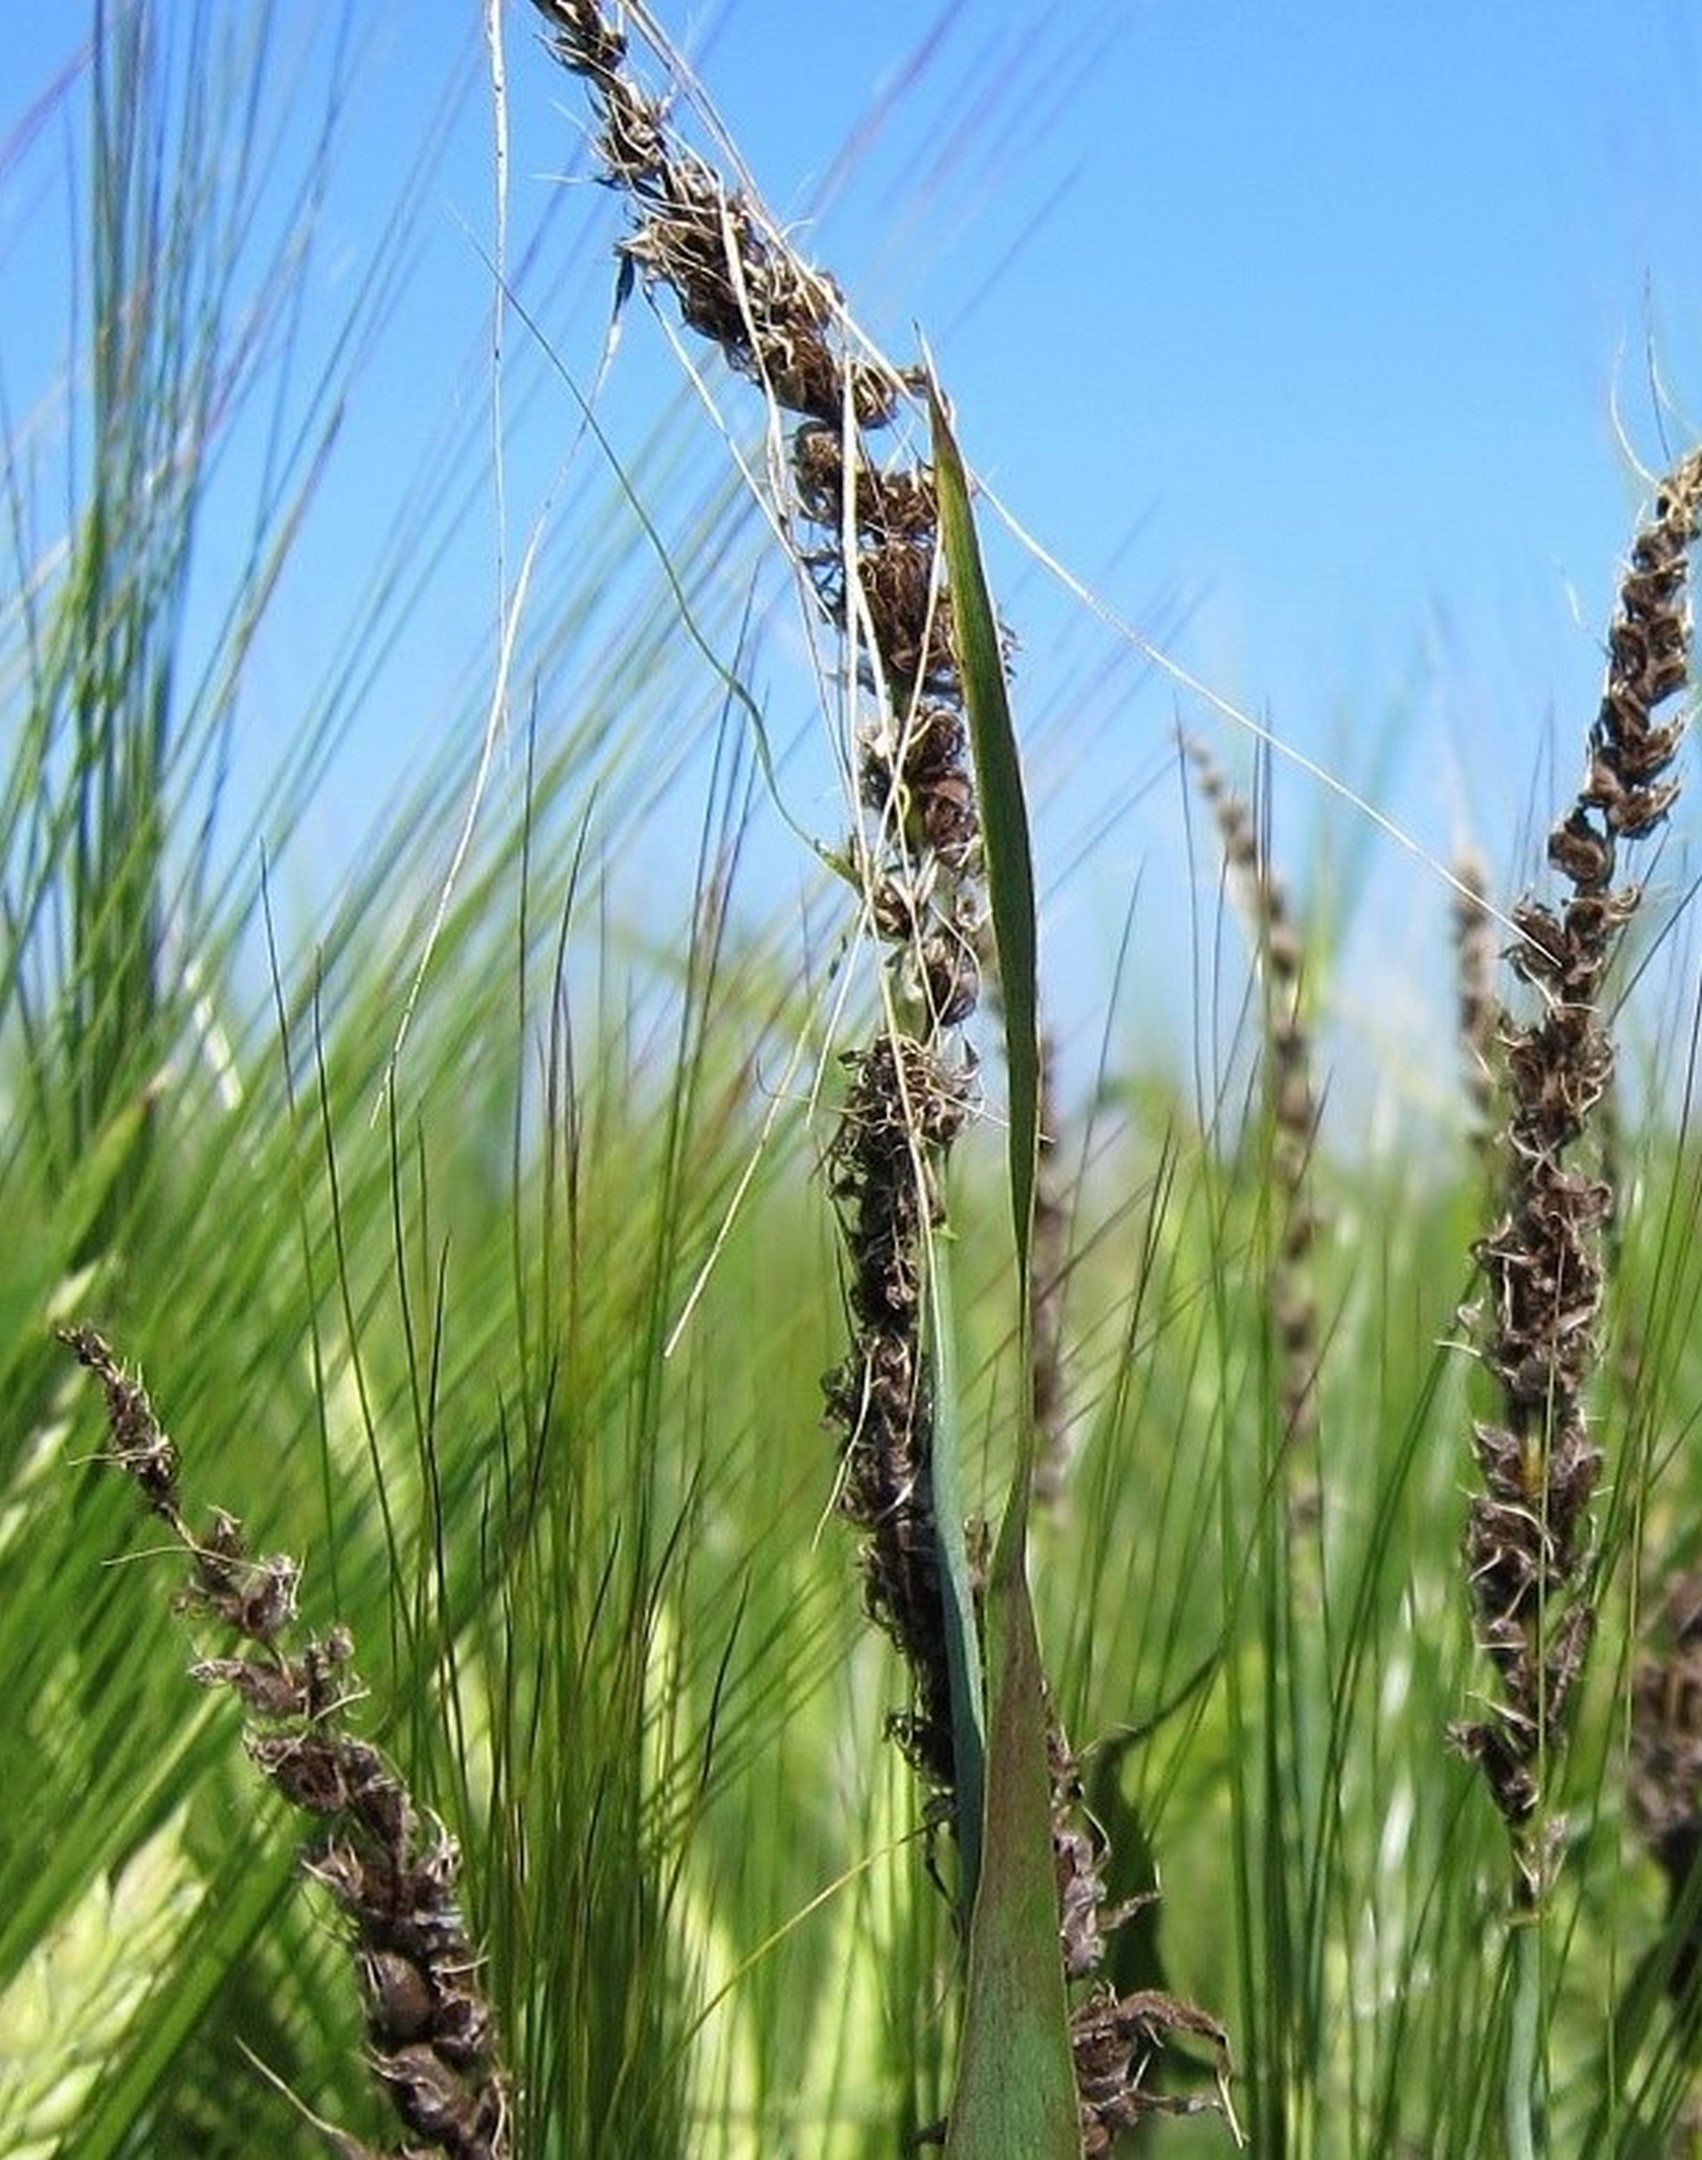Wheat Loose Smut: (566, 18, 1702, 1625), (67, 1332, 515, 2116)
